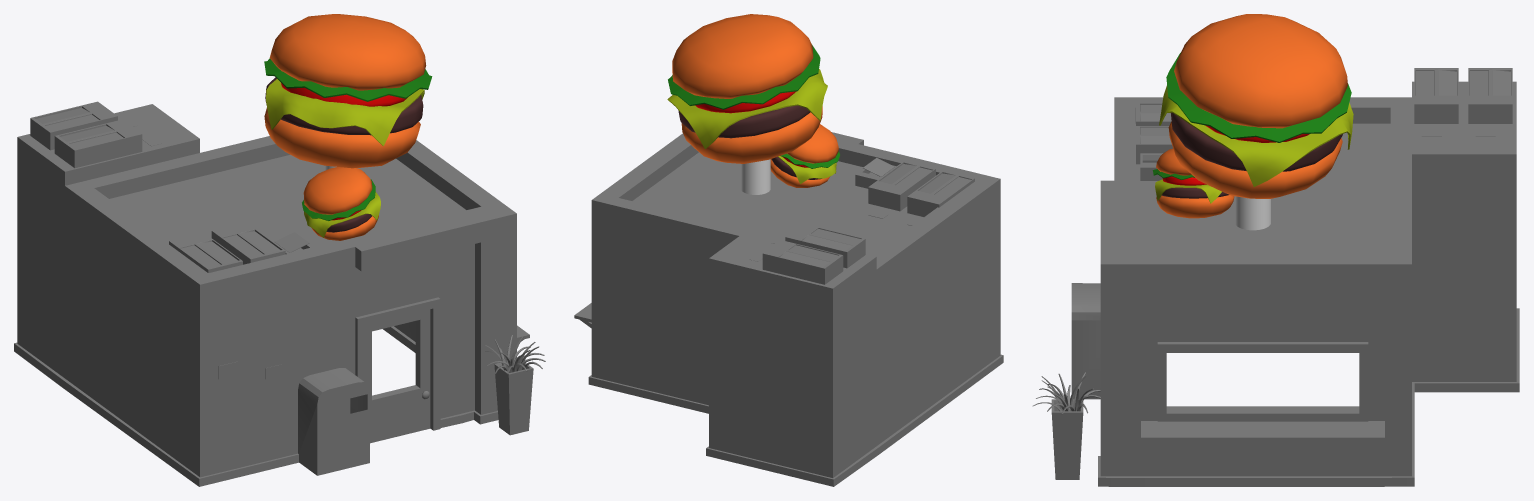
Rendered from BurgerLvl3.FBX.
3 renders of one model, left to right at view 1: azimuth 30°, elevation 25°; view 2: azimuth 150°, elevation 25°; view 3: azimuth 270°, elevation 25°, orthographic. The views are drawn at different scales.
Parts seen in each view (by area): view 1: HamburgerLvl3 (×2); view 2: HamburgerLvl3 (×2), Cylinder008; view 3: HamburgerLvl3 (×2), Cylinder008.
Boxes of the visible parts, <box> form: HamburgerLvl3 (×2): <box>14,14,545,486</box>; HamburgerLvl3 (×2): <box>574,14,1003,486</box>; Cylinder008: <box>741,159,770,194</box>; HamburgerLvl3 (×2): <box>1032,14,1519,486</box>; Cylinder008: <box>1235,196,1270,230</box>.
Bounding box in the file's own units: 387 × 388 × 430.
